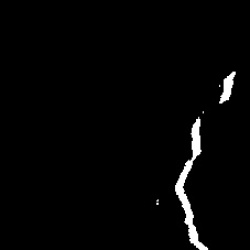crack: (174, 116, 208, 249), (219, 71, 234, 104)
